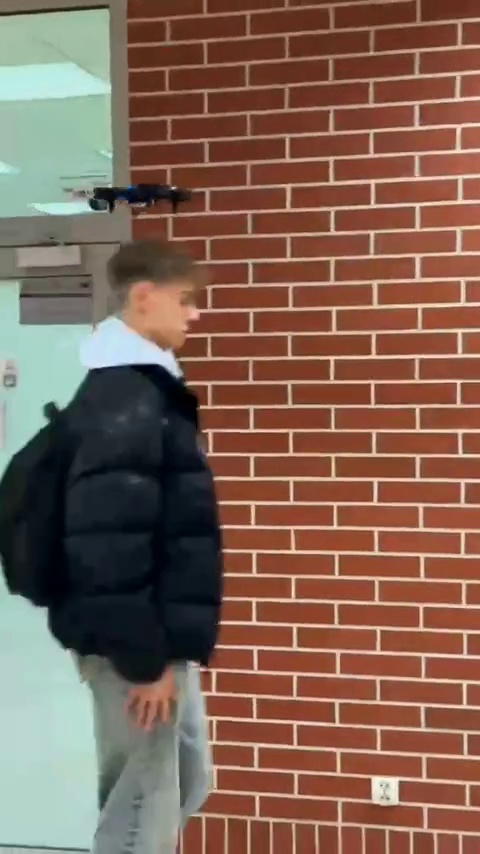drone: (84, 180, 191, 217)
no vest: (2, 237, 228, 848)
